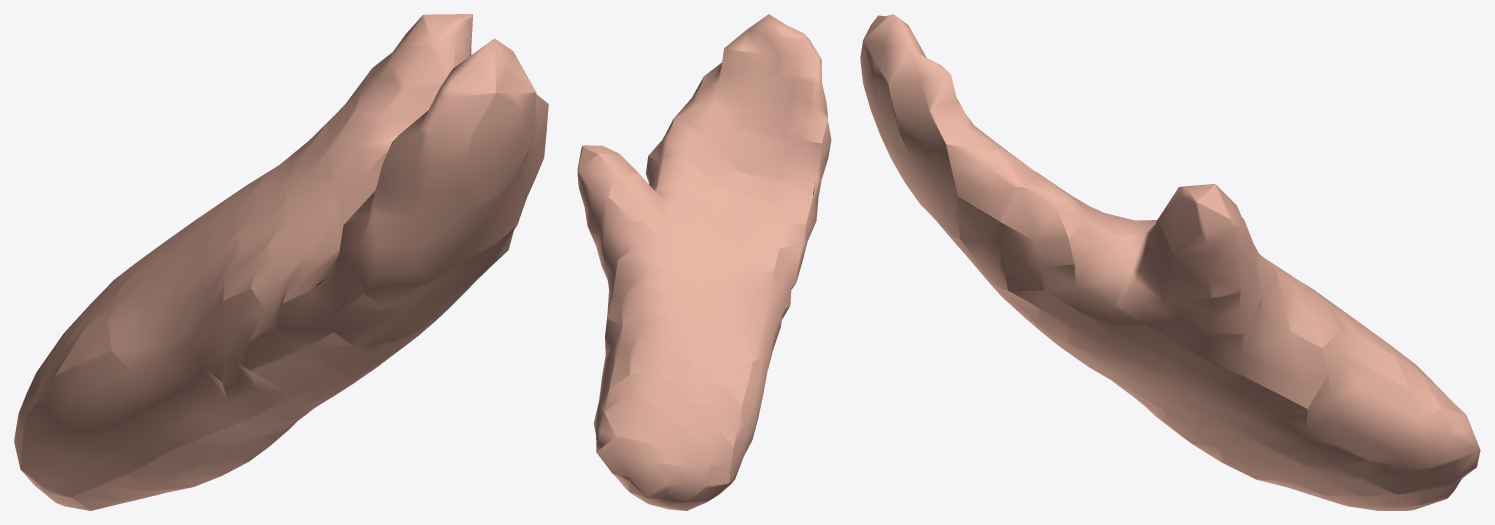
Rendered from rachel-left.gltf.
3 renders of one model, left to right at view 1: azimuth 30°, elevation 25°; view 2: azimuth 150°, elevation 25°; view 3: azimuth 270°, elevation 25°, orthographic. The views are drawn at different scales.
Parts seen in each view (by area): view 1: Layer_1; view 2: Layer_1; view 3: Layer_1.
Part boxes in pixels (bbox=[...]): Layer_1: bbox=[14, 14, 548, 510]; Layer_1: bbox=[577, 14, 831, 510]; Layer_1: bbox=[860, 14, 1480, 510].
Bounding box in the file's own units: 11.28 × 19.04 × 19.39.
Materials: 1 (1 with a texture image).
